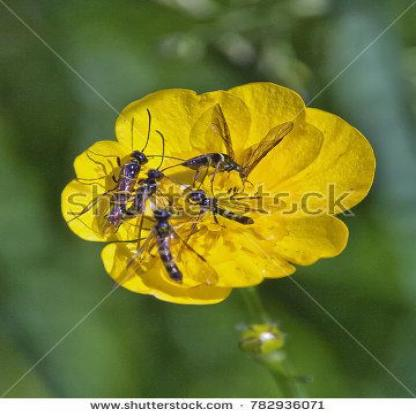sawfly: (66, 109, 154, 238), (175, 106, 299, 185), (103, 131, 176, 242), (136, 198, 208, 291), (164, 182, 268, 235)
